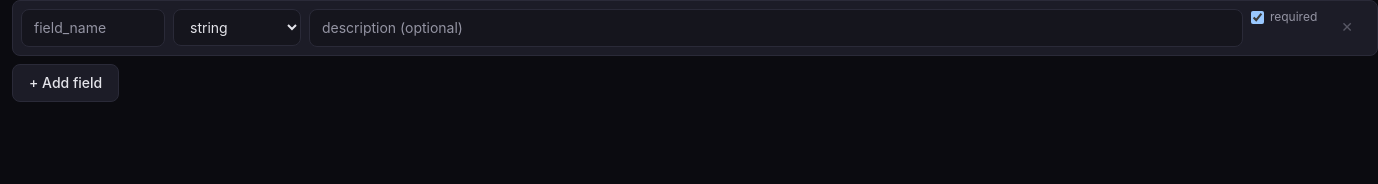
Test: SchemaBuilder › removes a field down to one and disables removal again
Click the button "+ Add field". click: (66, 83)
box: top-left (12, 64), bottom-right (119, 102)
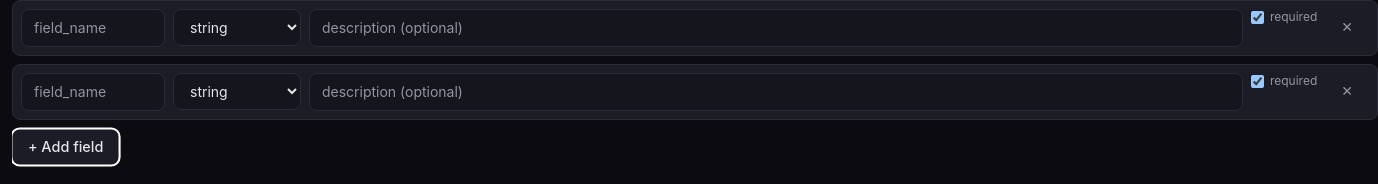
Click the button named "remove field 2". click: (1347, 91)
box: top-left (1325, 73), bottom-right (1369, 109)
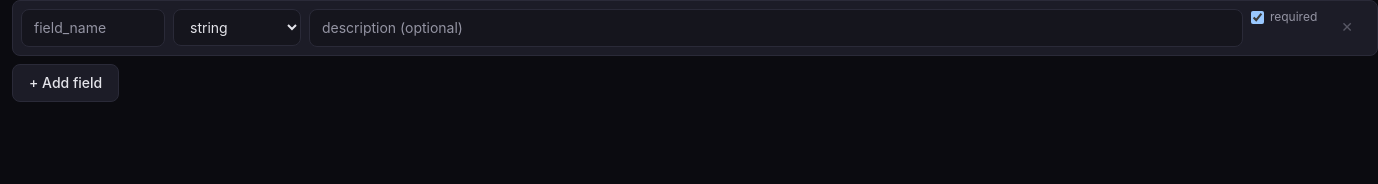
Now the number of fields with placeholder "field_name" is 1, box top-left (21, 9), bottom-right (165, 47)
Now the button named "remove field 1" is disabled, box top-left (1325, 9), bottom-right (1369, 45)
